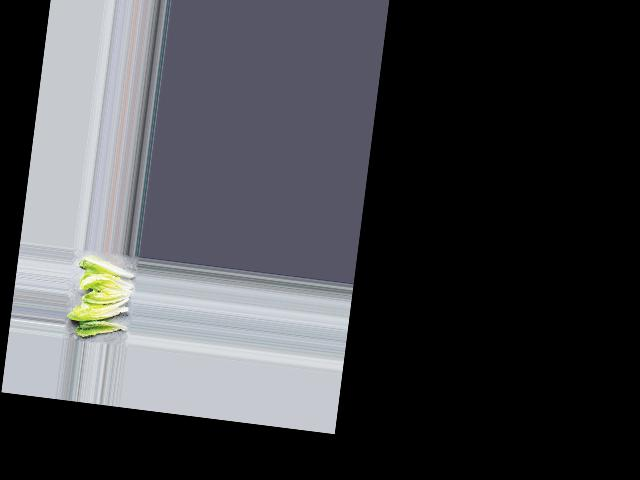lettuce: (75, 316, 130, 340)
